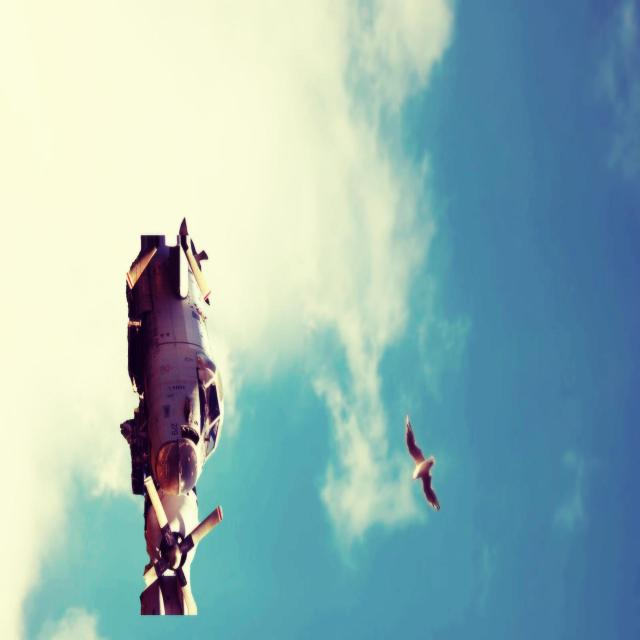airplane: (120, 215, 224, 615)
